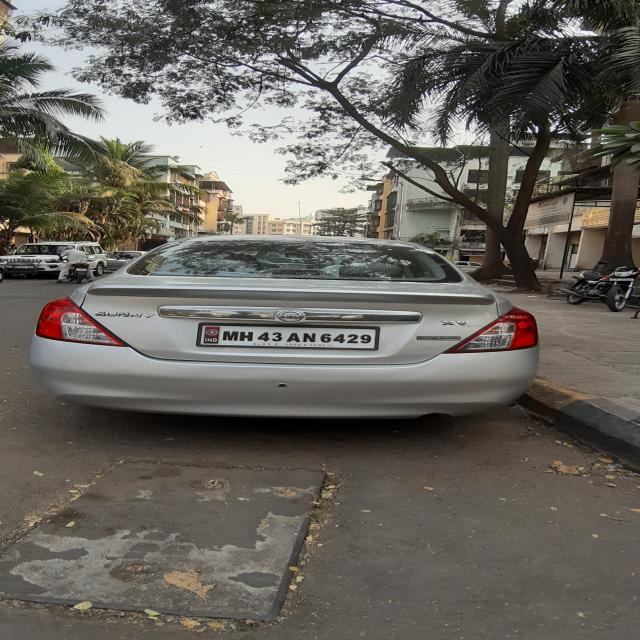Number-Plate: (196, 325, 375, 351)
